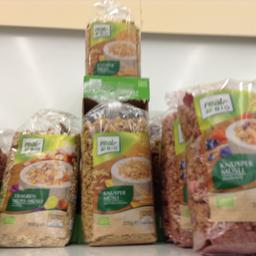cereal: (174, 80, 255, 250), (0, 108, 78, 246), (80, 102, 154, 241), (84, 12, 142, 76)
